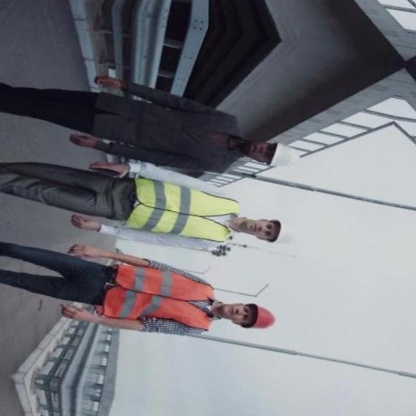red: (235, 300, 284, 338)
vest: (112, 172, 253, 255), (91, 257, 226, 342)
white: (263, 136, 309, 177), (259, 215, 305, 252)
